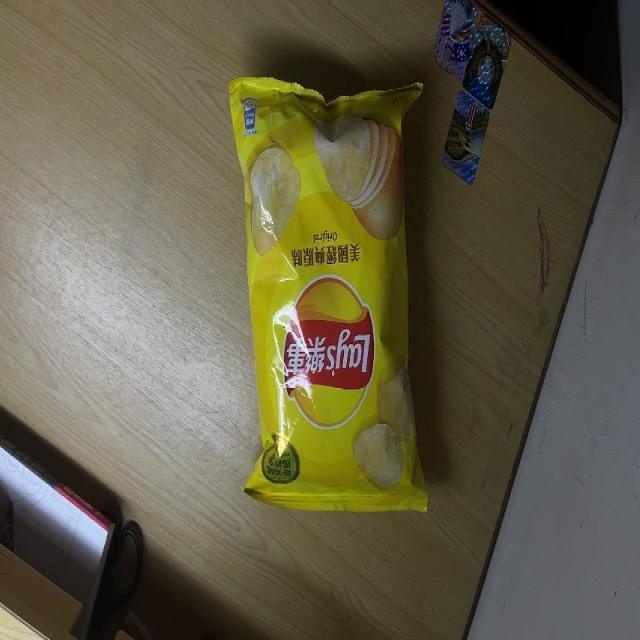Lay-s-original: (227, 80, 433, 515)
